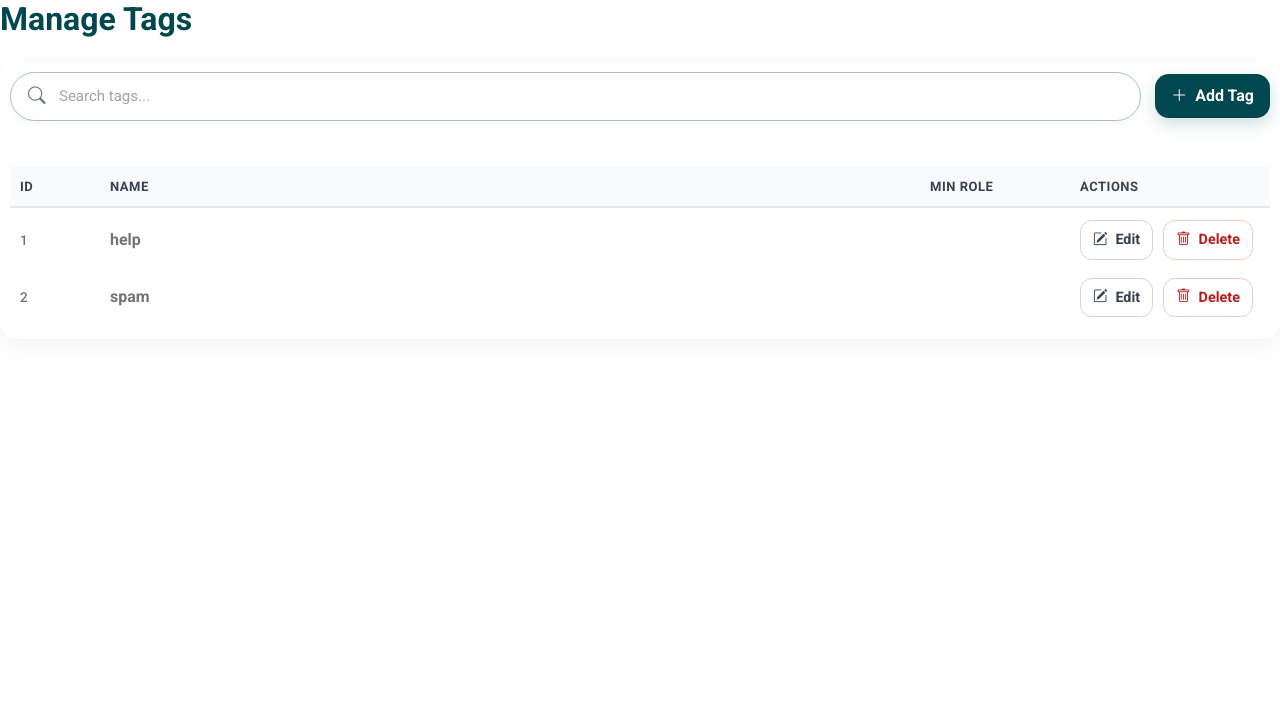
Test case: AdminTags.vue › Edit button opens the form with the selected tag's name prefilled
Click the button with class "btn-action" in the row of "help" at coordinates (1117, 240), box [1080, 220, 1153, 260]
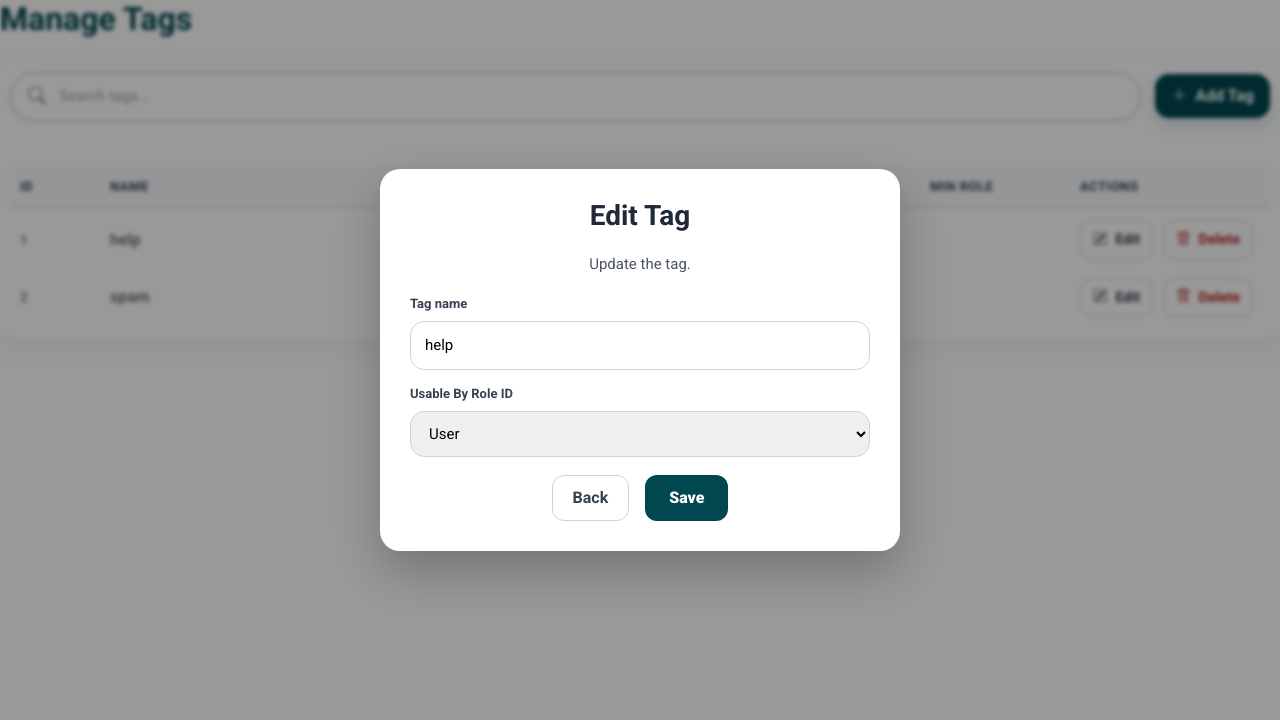
Now the heading with class "confirm-title" reads "Edit Tag", box [590, 199, 690, 232]
Now the field with class "field-input" holds "help", box [410, 321, 870, 370]
